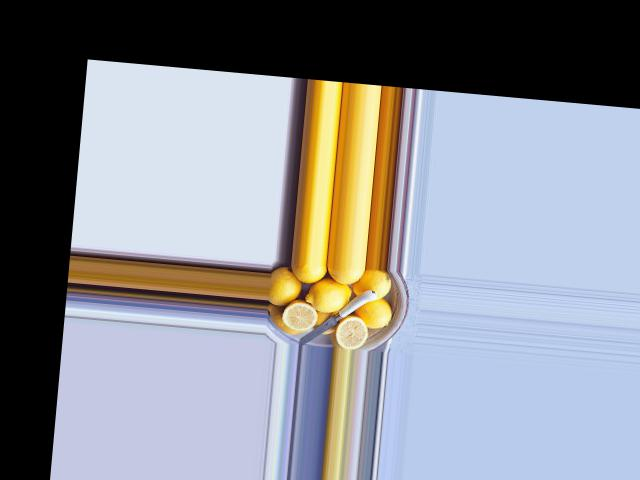lemon: (267, 265, 305, 311)
